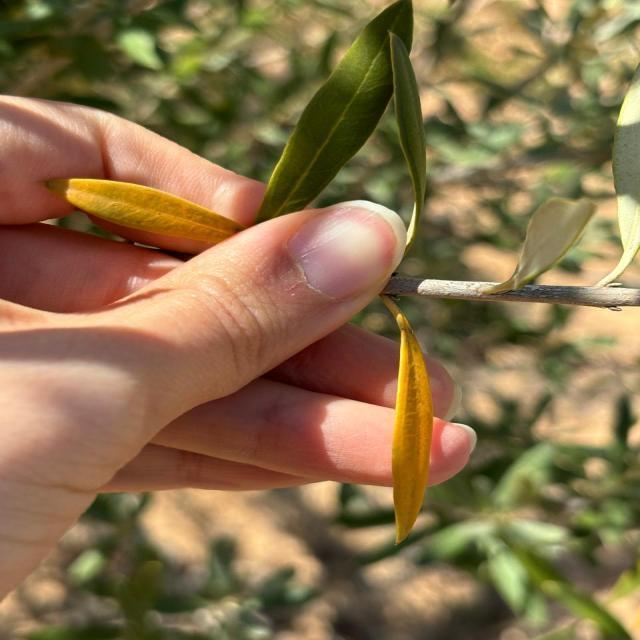OlivePeacockSpot: (46, 178, 243, 246), (392, 314, 431, 542)
